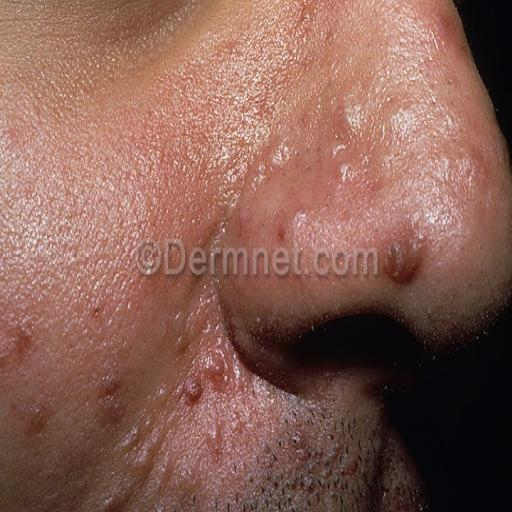Skin_Lesion: (179, 330, 230, 405), (380, 230, 425, 289), (282, 200, 320, 254), (221, 184, 256, 240), (174, 460, 206, 505), (97, 386, 130, 425), (123, 428, 151, 472), (328, 142, 356, 184), (85, 288, 115, 326), (196, 420, 228, 453), (433, 6, 459, 46), (292, 436, 316, 476), (338, 450, 359, 484), (297, 148, 317, 180), (10, 330, 42, 349), (97, 491, 116, 512), (29, 397, 45, 416)
